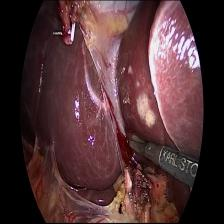Scissors: (127, 126, 160, 178)
